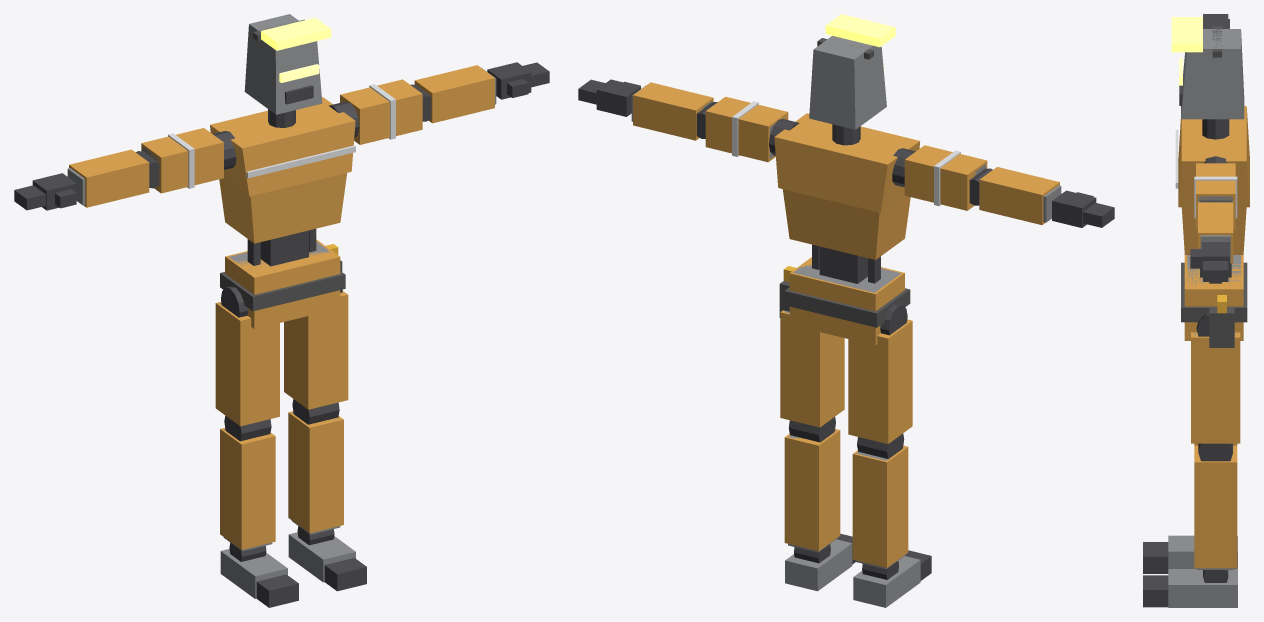
The model's file is char_F1_engineer.glb.
3 views of the same model, side by side, from view 1: azimuth 30°, elevation 25°; view 2: azimuth 150°, elevation 25°; view 3: azimuth 270°, elevation 25° (orthographic).
Visible parts, largest first — view 1: UpperChest_mesh, RightUpperLeg_mesh, RightLowerLeg_mesh, LeftLowerLeg_mesh, Hips_mesh, Head_mesh, LeftUpperLeg_mesh, Chest_mesh, RightLowerArm_mesh, RightUpperArm_mesh, LeftUpperArm_mesh, LeftLowerArm_mesh (+7 smaller); view 2: UpperChest_mesh, Head_mesh, RightUpperLeg_mesh, LeftLowerLeg_mesh, RightLowerLeg_mesh, Hips_mesh, LeftUpperLeg_mesh, Chest_mesh, RightLowerArm_mesh, RightUpperArm_mesh, LeftUpperArm_mesh, LeftLowerArm_mesh (+5 smaller); view 3: Head_mesh, LeftLowerLeg_mesh, LeftUpperLeg_mesh, Hips_mesh, UpperChest_mesh, LeftFoot_mesh, LeftUpperArm_mesh, LeftLowerArm_mesh, LeftHand_mesh, Chest_mesh, RightFoot_mesh, LeftToes_mesh (+4 smaller).
Boxes of the visible parts, box(x1,y1,x2,y2) form: UpperChest_mesh: box(210, 97, 355, 196); RightUpperLeg_mesh: box(215, 286, 279, 426); RightLowerLeg_mesh: box(220, 415, 275, 551); LeftLowerLeg_mesh: box(288, 399, 343, 534); Hips_mesh: box(220, 239, 345, 328); Head_mesh: box(244, 14, 331, 114); LeftUpperLeg_mesh: box(284, 289, 348, 409); Chest_mesh: box(219, 173, 346, 243); RightLowerArm_mesh: box(67, 149, 159, 207); RightUpperArm_mesh: box(141, 128, 223, 193); LeftUpperArm_mesh: box(340, 79, 422, 144); LeftLowerArm_mesh: box(410, 65, 496, 123); UpperChest_mesh: box(774, 113, 920, 212); Head_mesh: box(809, 14, 895, 129); RightUpperLeg_mesh: box(848, 304, 912, 443); LeftLowerLeg_mesh: box(784, 417, 840, 552); RightLowerLeg_mesh: box(852, 433, 908, 569); Hips_mesh: box(779, 257, 910, 345); LeftUpperLeg_mesh: box(780, 310, 844, 427); Chest_mesh: box(782, 189, 910, 259); RightLowerArm_mesh: box(969, 167, 1061, 224); RightUpperArm_mesh: box(904, 145, 987, 210); LeftUpperArm_mesh: box(705, 96, 788, 162); LeftLowerArm_mesh: box(631, 82, 717, 140); Head_mesh: box(1171, 17, 1244, 119); LeftLowerLeg_mesh: box(1194, 443, 1237, 569); LeftUpperLeg_mesh: box(1191, 312, 1240, 443); Hips_mesh: box(1181, 255, 1247, 347); UpperChest_mesh: box(1175, 106, 1249, 207); LeftFoot_mesh: box(1168, 569, 1237, 607); LeftUpperArm_mesh: box(1194, 163, 1237, 229); LeftLowerArm_mesh: box(1198, 200, 1233, 263); LeftHand_mesh: box(1190, 242, 1229, 281); Chest_mesh: box(1181, 207, 1246, 254); RightFoot_mesh: box(1168, 535, 1237, 568); LeftToes_mesh: box(1143, 575, 1168, 607).
Bounding box in the file's own units: 1.92 × 1.93 × 0.338.
